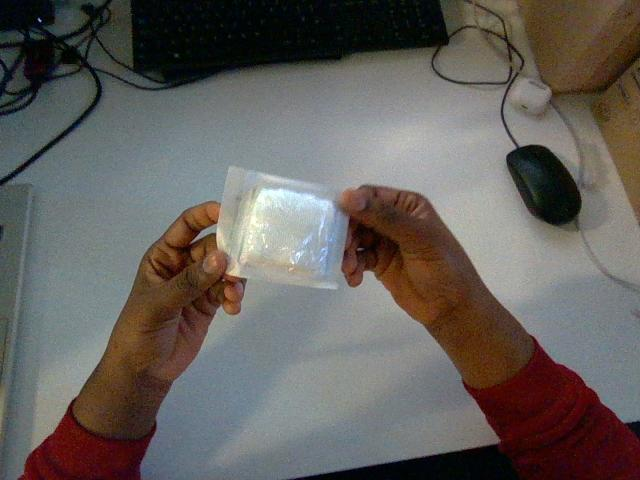gauze: (217, 166, 348, 288)
